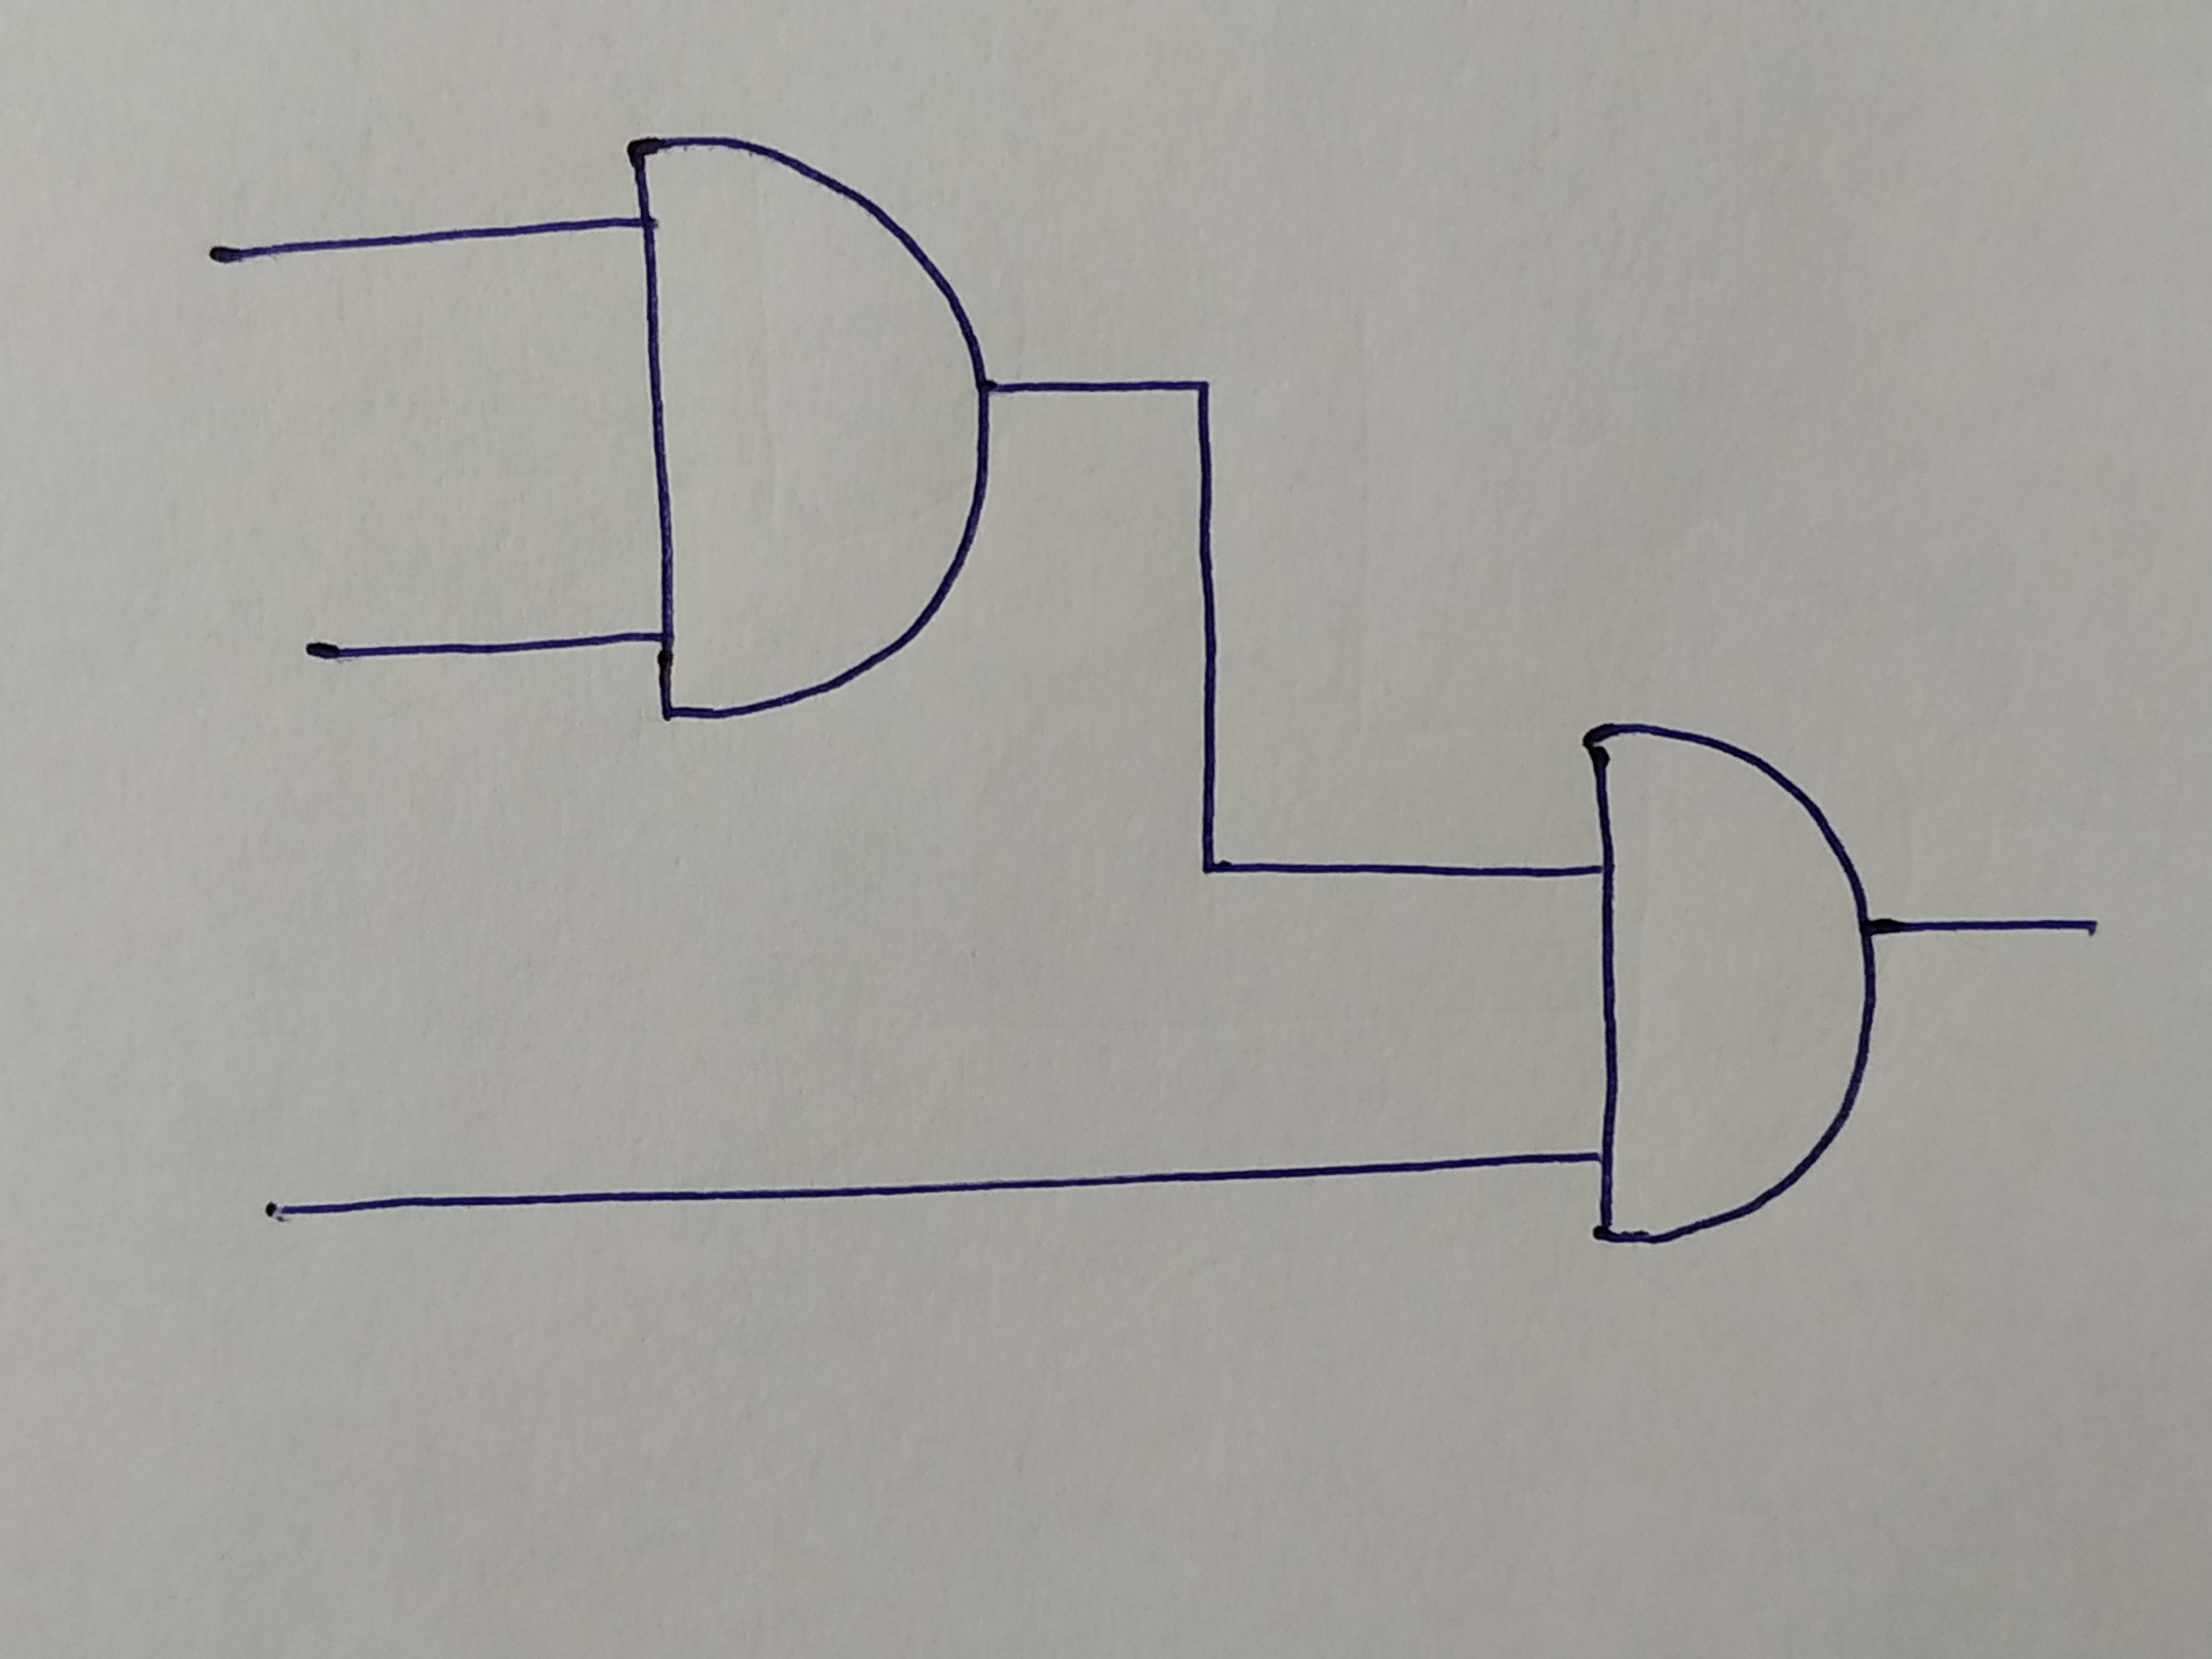and: (629, 136, 991, 714), (1580, 714, 1876, 1246)
